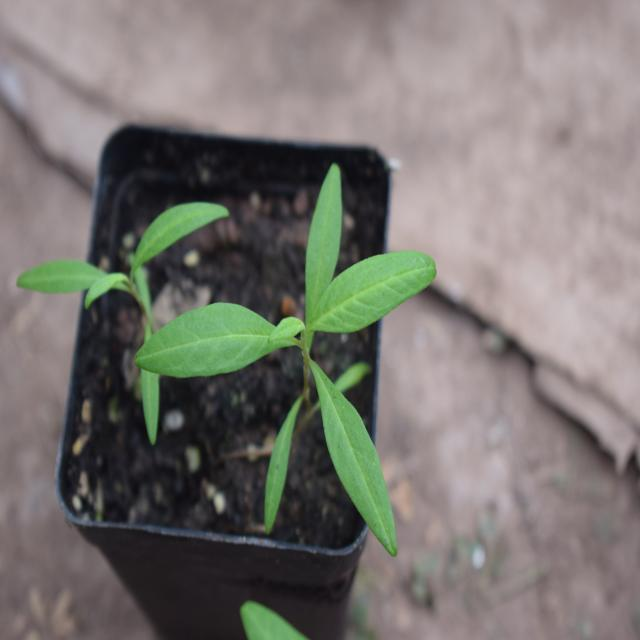white_smart_weed: (144, 206, 489, 559)
